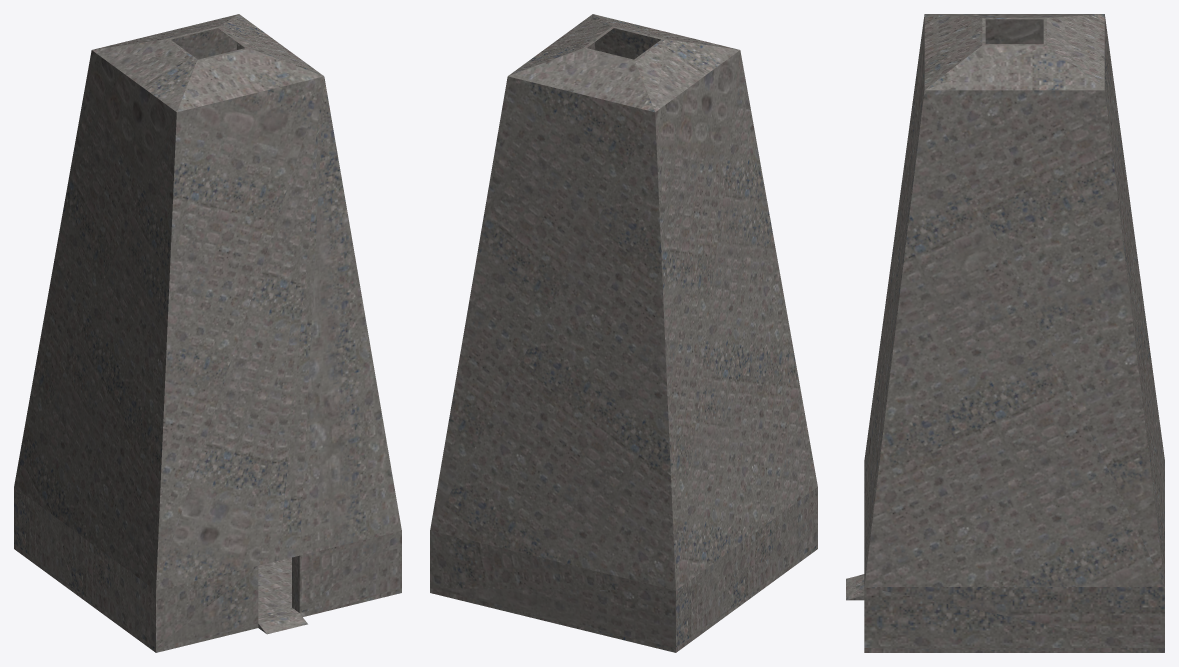
Rendered from tall_building_1.fbx.
The picture shows the model from 3 angles, left to right: view 1: azimuth 30°, elevation 25°; view 2: azimuth 150°, elevation 25°; view 3: azimuth 270°, elevation 25°; orthographic projection. The views are drawn at different scales.
Visible parts, largest first — view 1: SketchUp; view 2: SketchUp; view 3: SketchUp.
Part boxes in pixels (x1=…): SketchUp: x1=14, y1=14, x2=401, y2=652; SketchUp: x1=430, y1=14, x2=817, y2=652; SketchUp: x1=846, y1=14, x2=1164, y2=652.
Bounding box in the file's own units: 2987 × 6119 × 3170.
